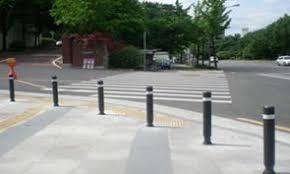Animal: (256, 106, 279, 174), (197, 84, 218, 144), (96, 78, 115, 114), (7, 75, 24, 105), (144, 83, 157, 119), (48, 77, 61, 104)
